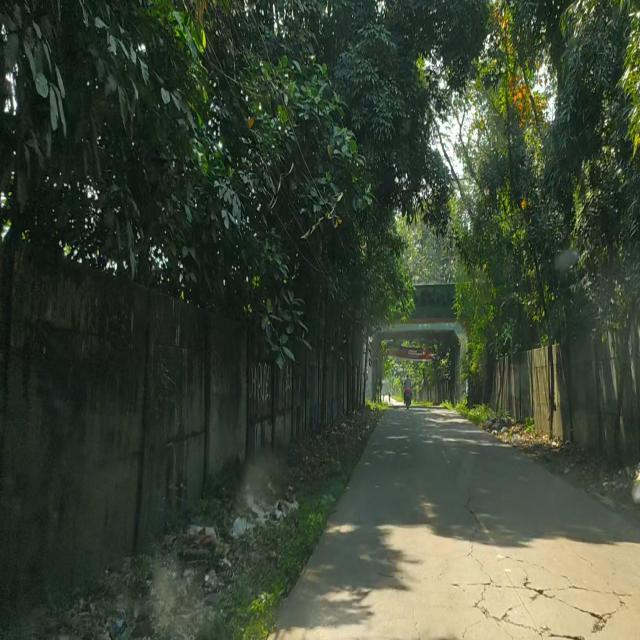Drain Hole: (465, 537, 629, 639)
